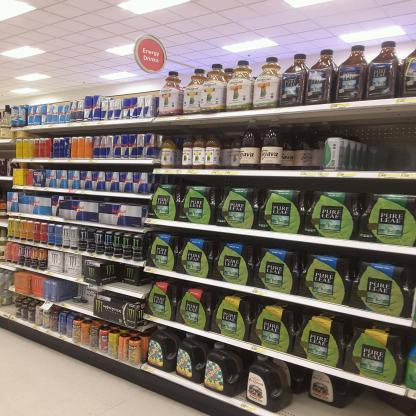Void: (356, 122, 412, 173), (363, 390, 397, 413), (115, 265, 143, 292), (73, 286, 91, 309)
